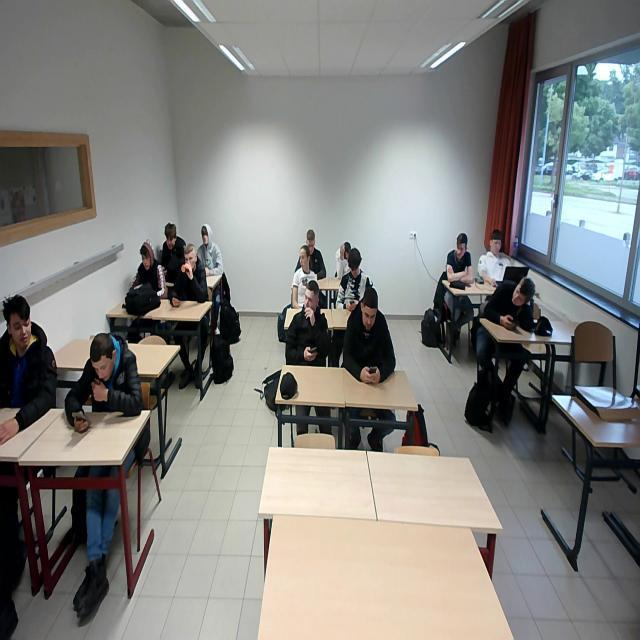Looking away: (9, 313, 32, 348), (456, 243, 467, 260), (300, 250, 308, 269)
Looking forward: (304, 282, 320, 316), (183, 247, 197, 270), (142, 253, 152, 271)
Phone use: (66, 332, 148, 432), (347, 294, 398, 388), (493, 272, 542, 339), (332, 250, 374, 310), (156, 218, 187, 280)
